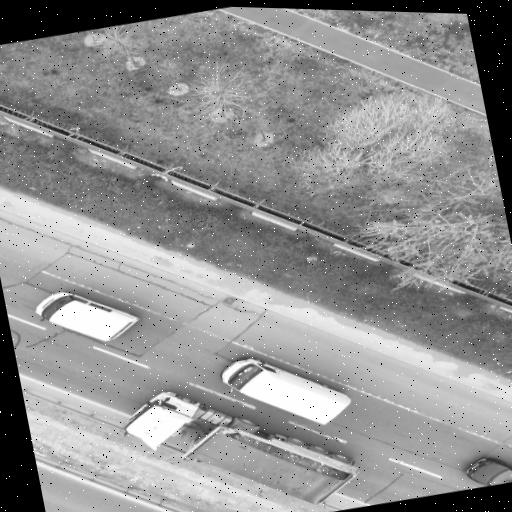car: (222, 357, 350, 423), (36, 291, 139, 340), (466, 457, 511, 486)
truck: (126, 391, 357, 502)
